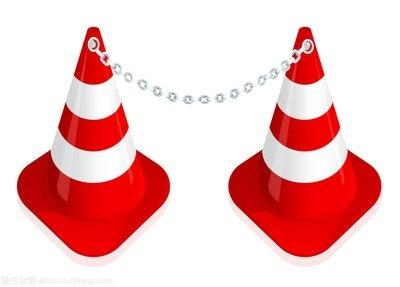cone_barrel: (30, 27, 154, 246), (241, 26, 364, 245)
